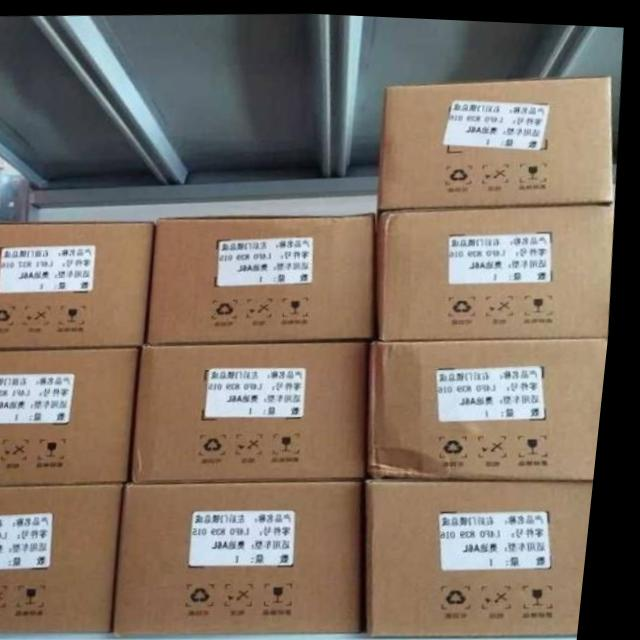box: (125, 477, 376, 635), (377, 476, 603, 633), (138, 338, 376, 481), (378, 333, 613, 477), (381, 198, 617, 337), (383, 70, 616, 208), (152, 211, 380, 343), (0, 346, 148, 485), (0, 482, 133, 635), (0, 221, 159, 348)
